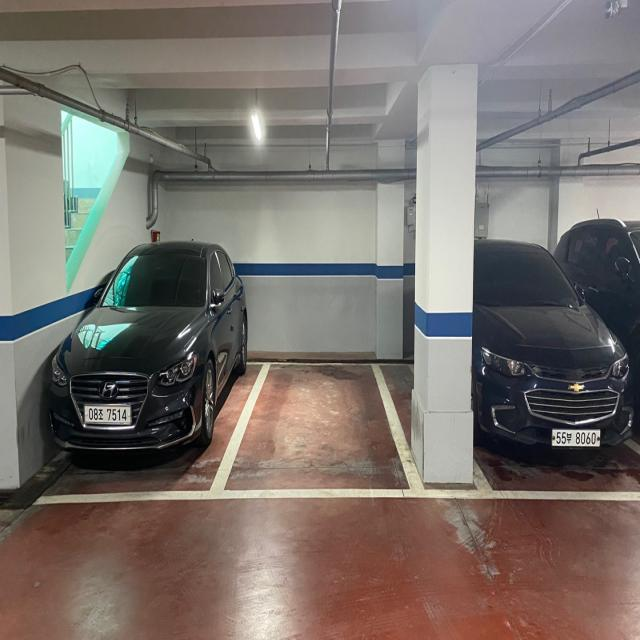empty: (203, 359, 431, 502)
occupied: (49, 240, 228, 460), (476, 247, 629, 461)
